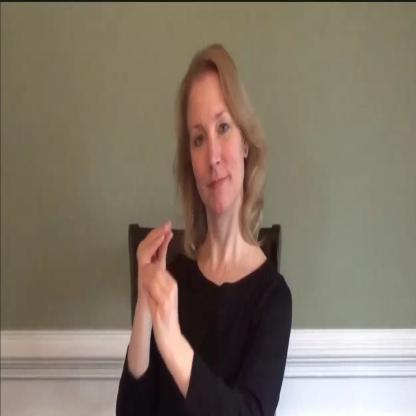Fix: (126, 206, 202, 369)
